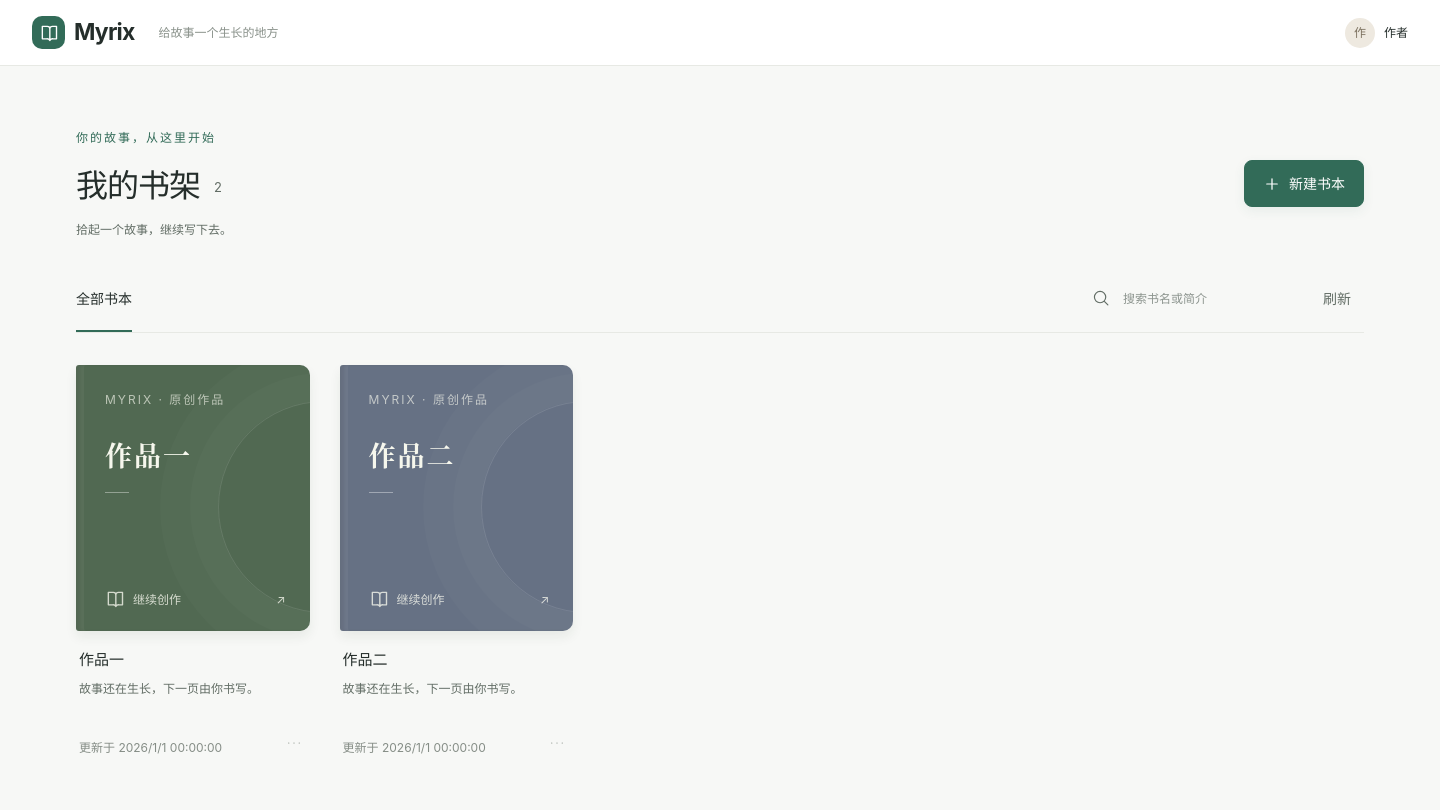
Test: App 代际归属：迟到的异步回包不抢用户的新选择 › 中栏按 work 隔离：新建章节的迟到回包不会在新作品里选中章节
Expected: the heading "我的书架 2" is shown, [76, 160, 232, 213]
Click the button with aria-label "打开书本：作品二" at [456, 498], box [340, 366, 573, 632]
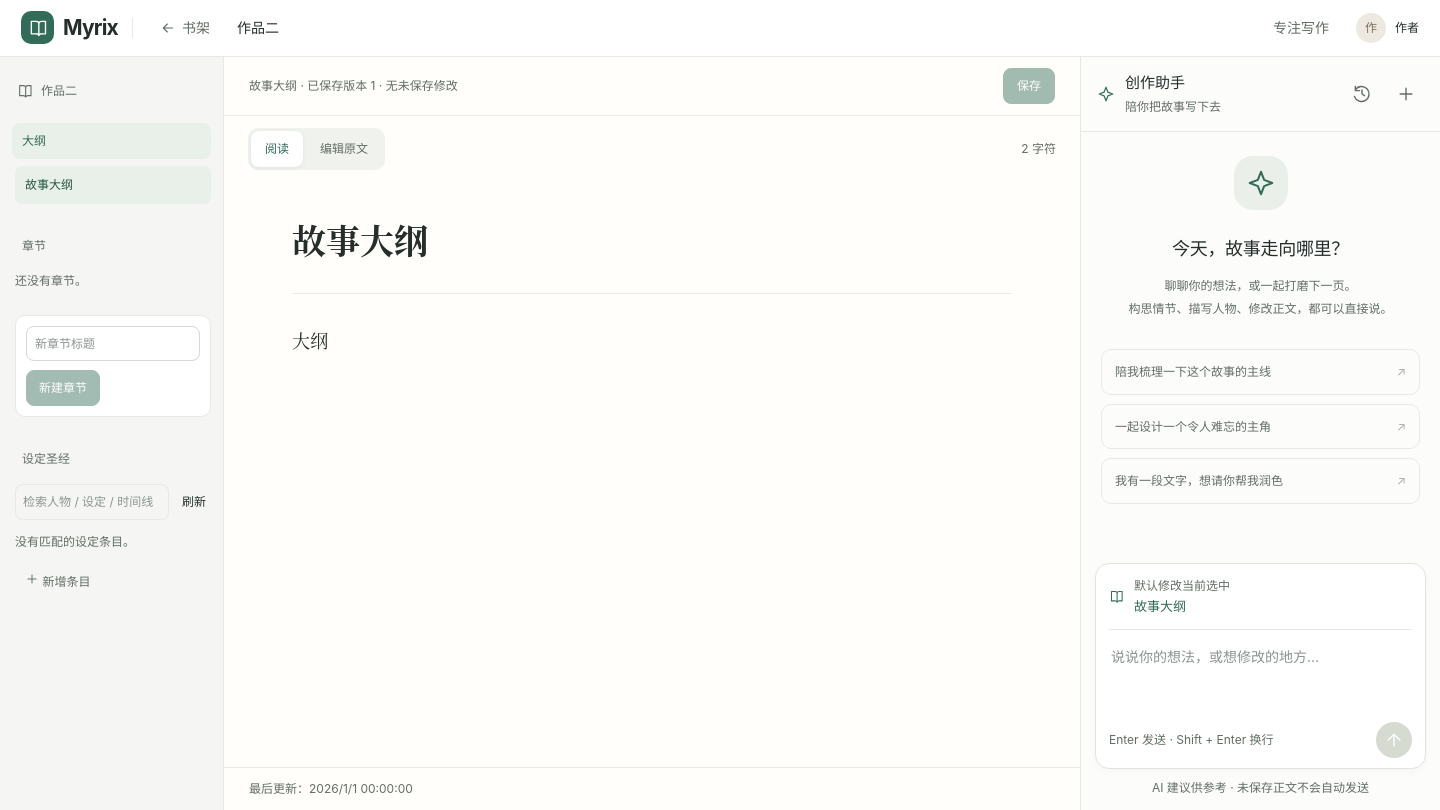
Result: the element named "作品内容" is shown at [224, 57, 1080, 809]
Type "迟到的章节" into the field labelled "新章节标题" at [113, 344], box [26, 326, 200, 361]
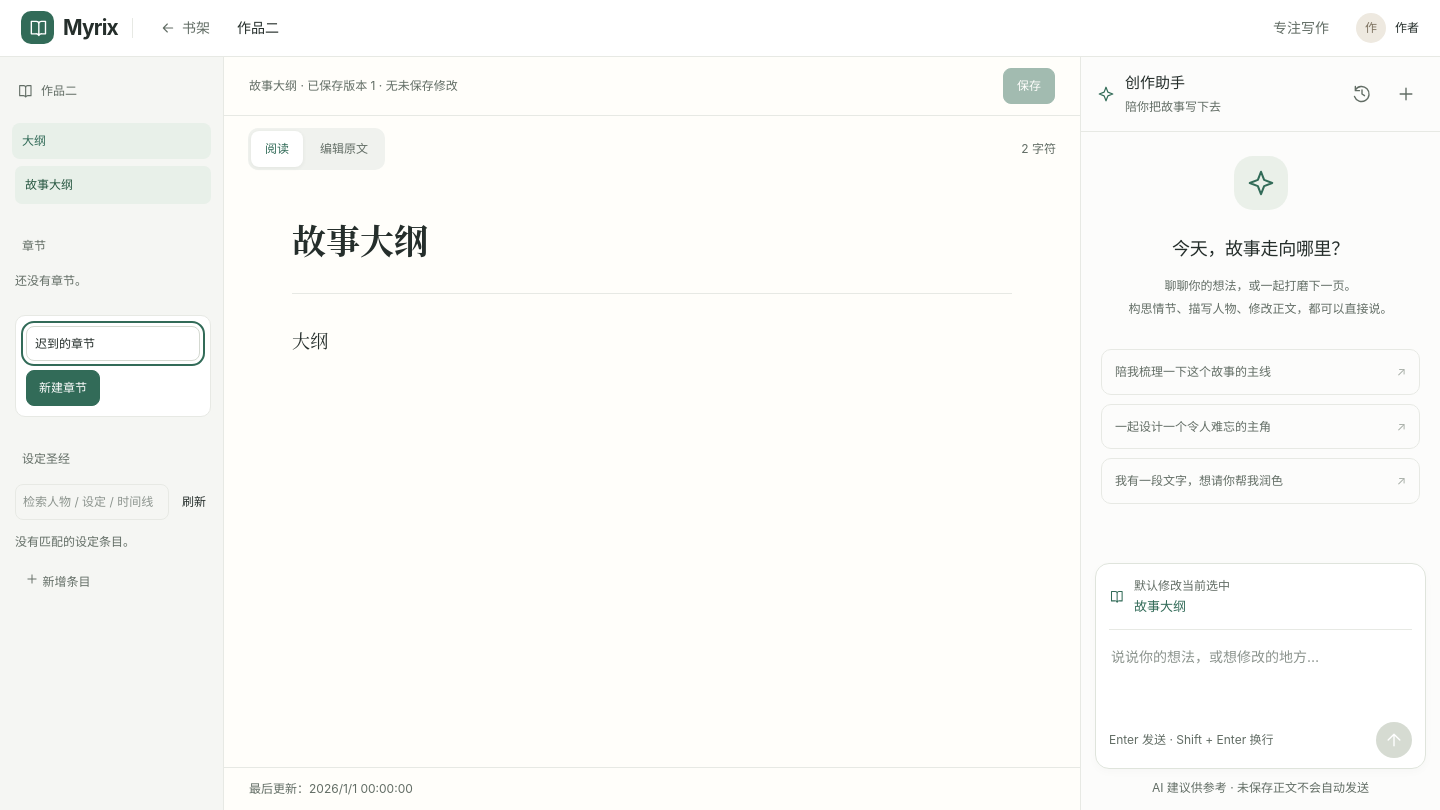
Click the button "新建章节" at [63, 388], box [26, 370, 100, 406]
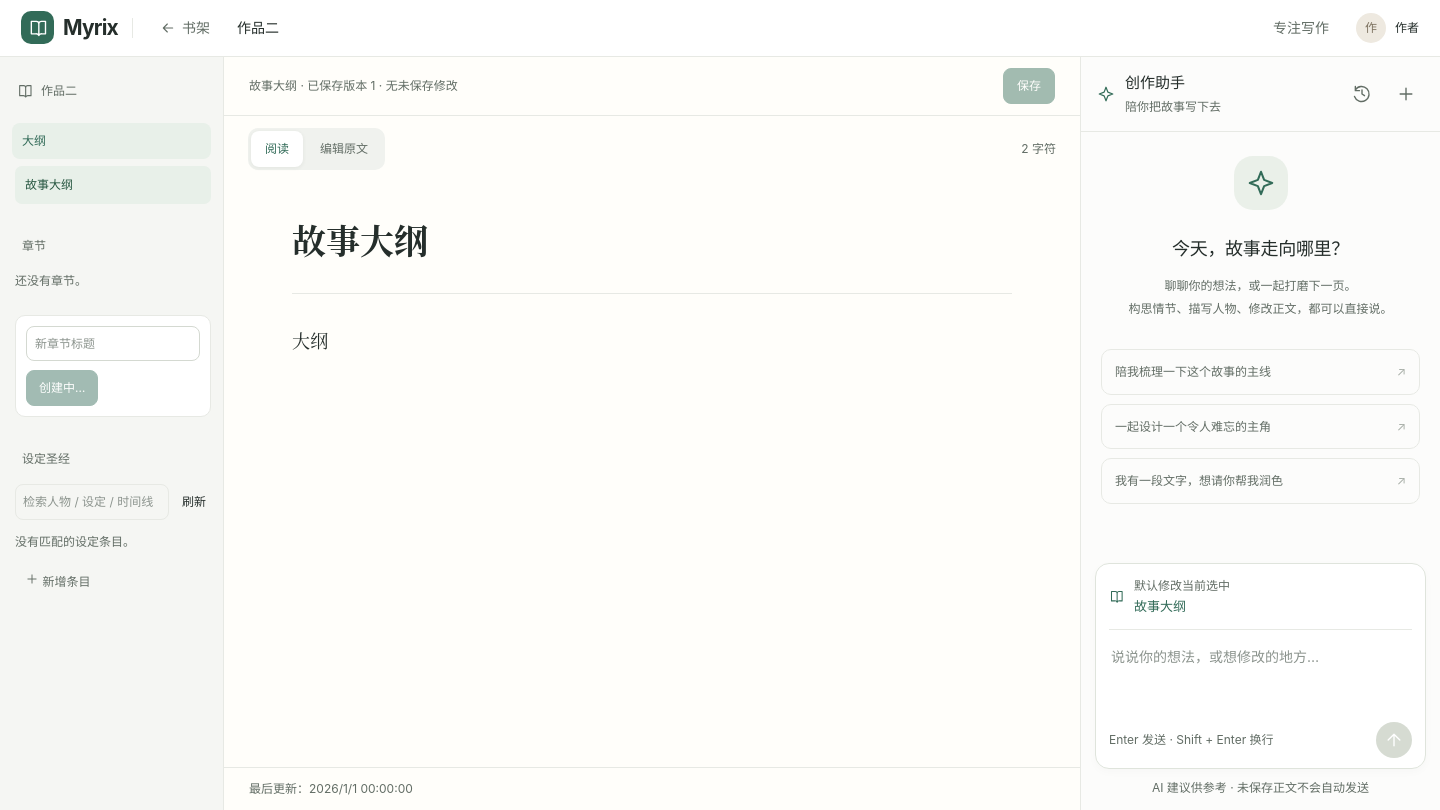
Click the button "书架" at [185, 28], box [147, 8, 223, 48]
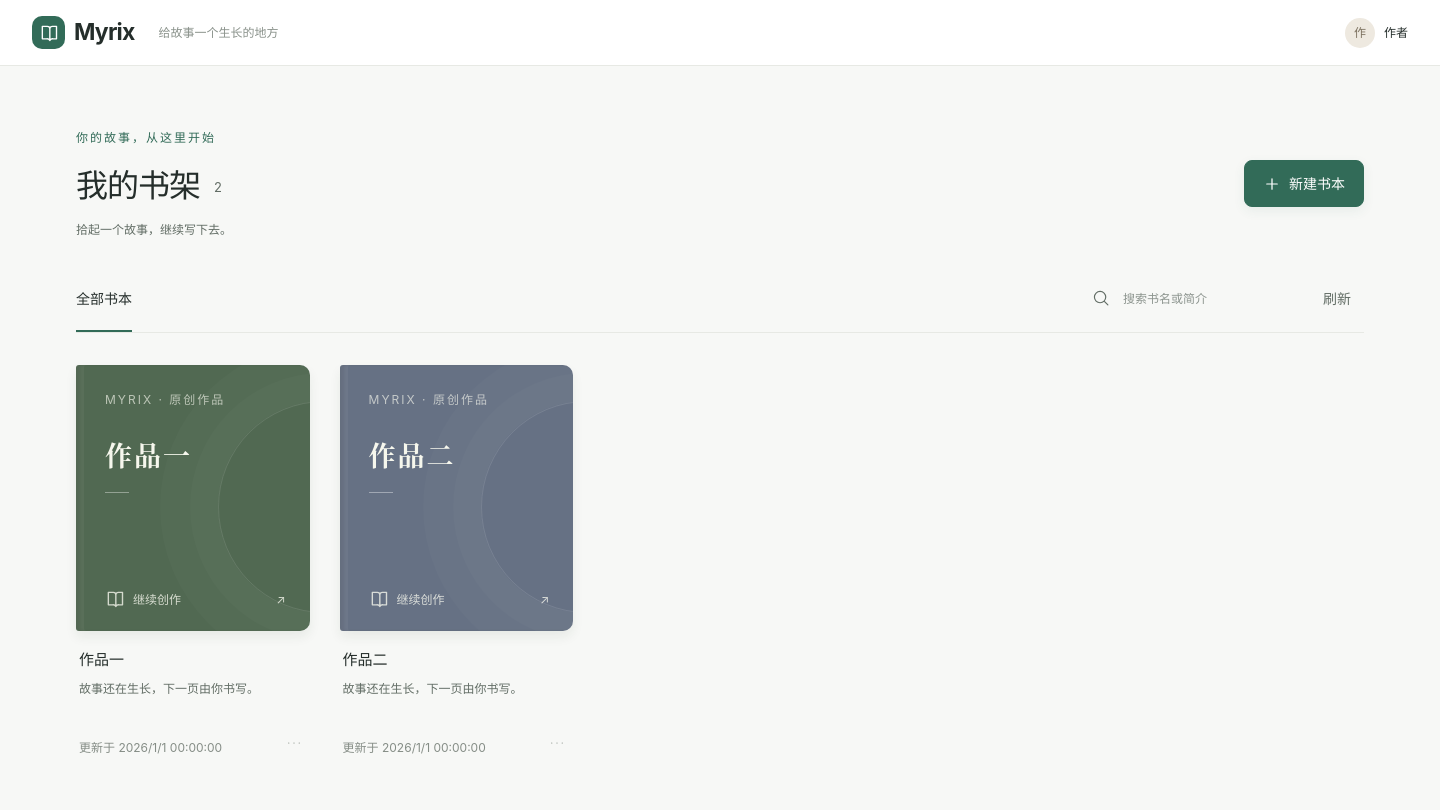
Result: the heading "我的书架 2" is shown at [76, 160, 232, 213]
Result: the element "作品内容" is gone
Click the button with aria-label "打开书本：作品一" at [193, 498], box [76, 366, 310, 632]
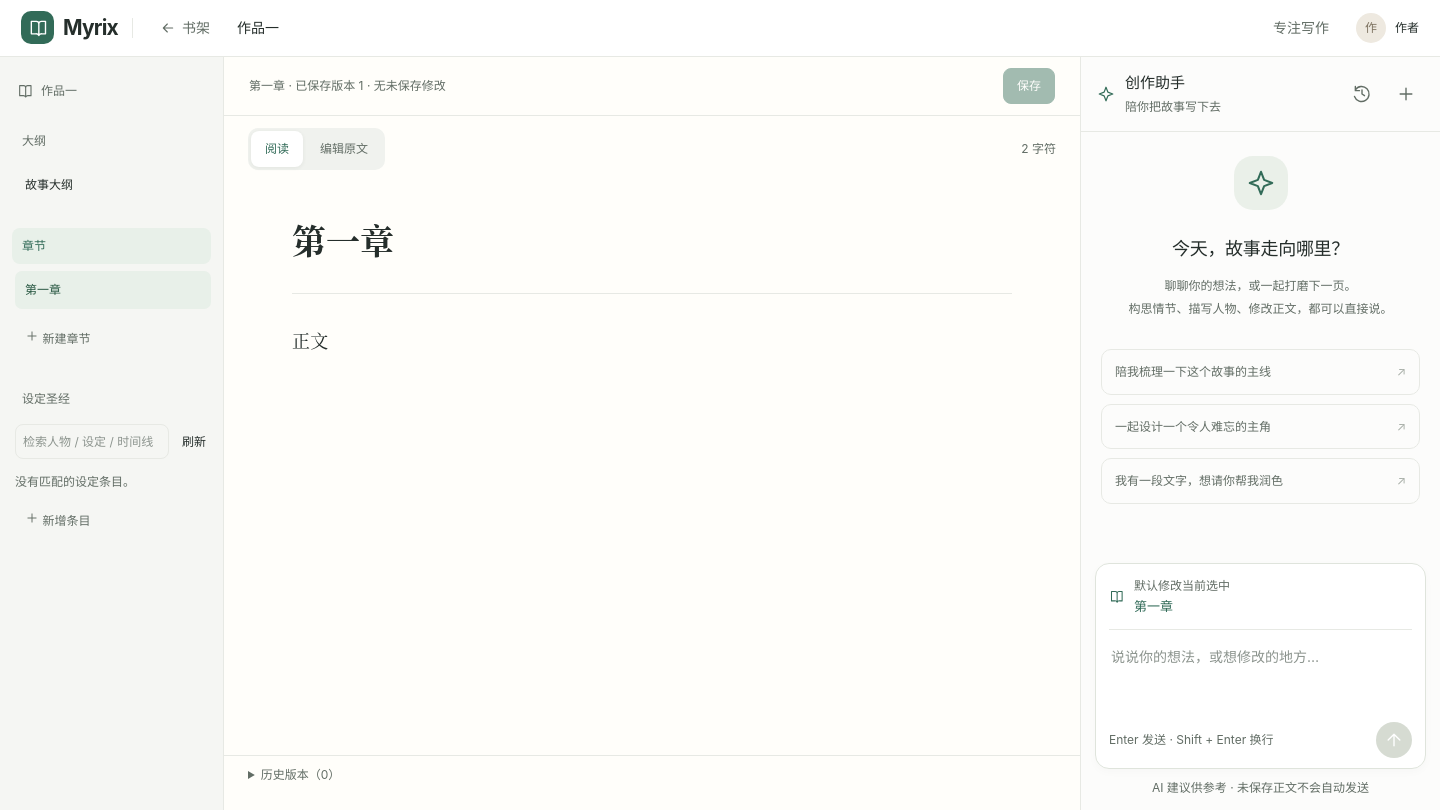
Expected: the text "迟到的章节" is not shown
Result: the element named "作品内容" is shown at [224, 57, 1080, 809]
